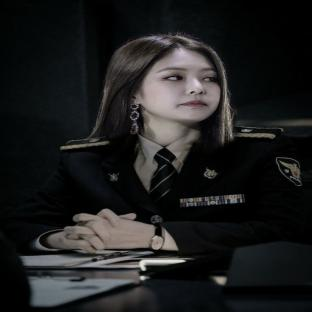Human: (1, 34, 306, 255)
